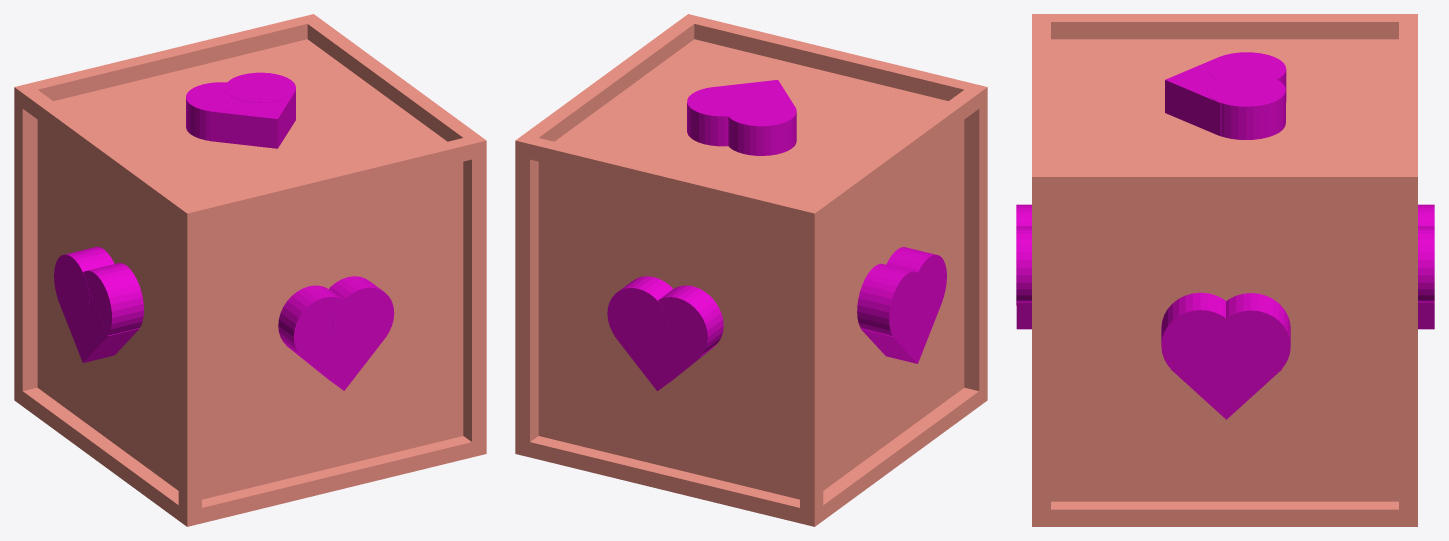
File: healthDrop.fbx
3 views of the same model, side by side, from view 1: azimuth 30°, elevation 25°; view 2: azimuth 150°, elevation 25°; view 3: azimuth 270°, elevation 25° (orthographic). The views are drawn at different scales.
Visible parts, largest first — view 1: Cube, Cylinder, Cylinder.002, Cylinder.004; view 2: Cube, Cylinder.003, Cylinder.002, Cylinder.004; view 3: Cube, Cylinder.001, Cylinder.004, Cylinder.003, Cylinder.
Part boxes in pixels (bbox=[...]): Cube: bbox=[14, 14, 486, 526]; Cylinder: bbox=[278, 276, 394, 390]; Cylinder.002: bbox=[54, 246, 143, 362]; Cylinder.004: bbox=[186, 72, 295, 148]; Cube: bbox=[515, 14, 987, 526]; Cylinder.003: bbox=[607, 276, 723, 391]; Cylinder.002: bbox=[857, 247, 946, 363]; Cylinder.004: bbox=[687, 80, 796, 155]; Cube: bbox=[1032, 14, 1417, 526]; Cylinder.001: bbox=[1161, 292, 1290, 419]; Cylinder.004: bbox=[1165, 52, 1286, 139]; Cylinder.003: bbox=[1418, 204, 1434, 329]; Cylinder: bbox=[1016, 204, 1031, 329].
Size of the model in its own units: 223 by 217 by 217.
